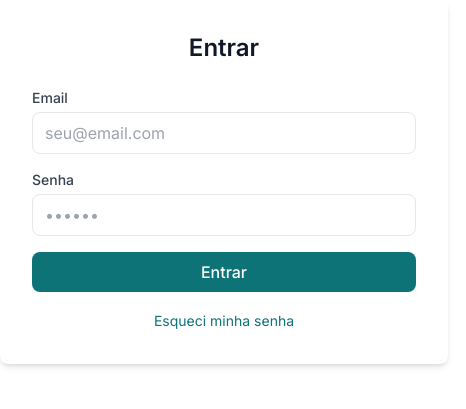
LoginForm › onBlur validation › shows 'Email inválido' and sets aria-invalid when email is invalid on blur
This screenshot has width=466, height=409.
In the field labelled "Email": (224, 133) [32,112,416,154], type "invalid-email"
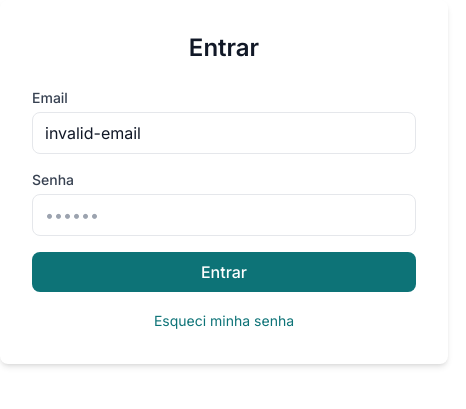
Leave the field labelled "Email", box [32,112,416,154]
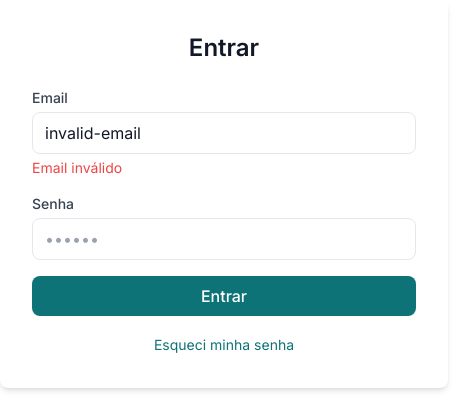
Result: the text "Email inválido" is shown at [32,159,122,176]
